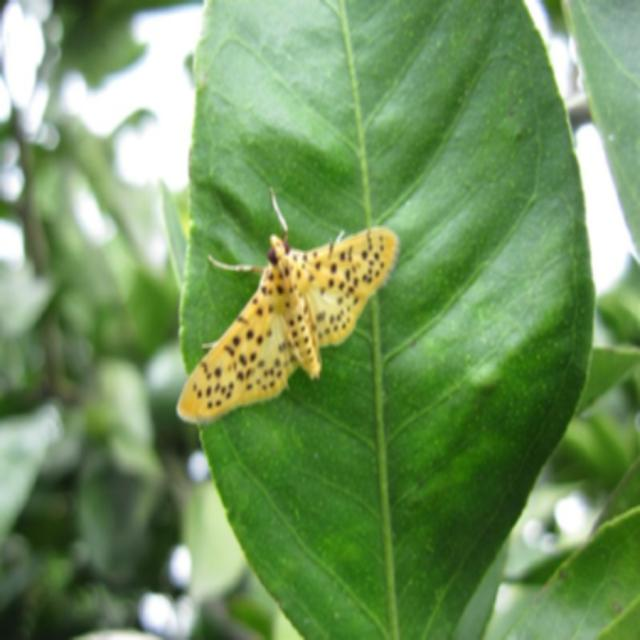peach borer: (174, 210, 394, 434)
